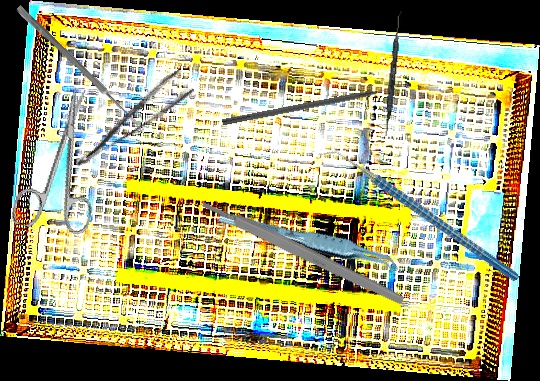Chopper: (317, 100, 520, 331)
Dressing Forceps: (62, 67, 197, 170)
Hook Surgical: (221, 84, 402, 128)
Iris Scissors: (9, 80, 121, 241)
Scalpel Handle: (200, 197, 406, 307)
Spatula Surgical: (384, 10, 402, 137)
Surgical Spoon: (14, 4, 148, 134)
Tissue Forceps: (217, 190, 402, 293)
